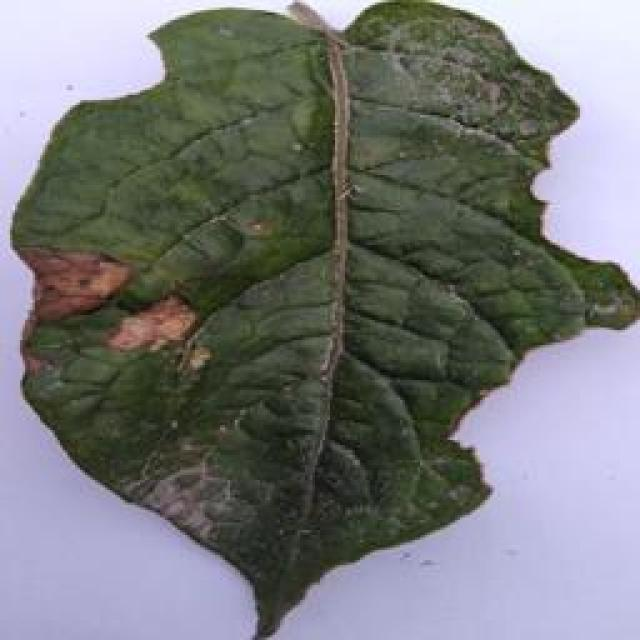Potato_Late_Blight: (12, 4, 625, 636)
